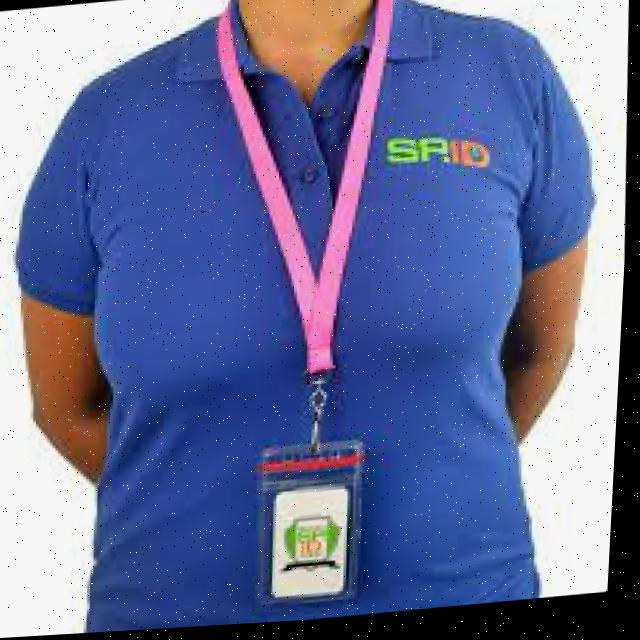id_card: (184, 0, 415, 621)
